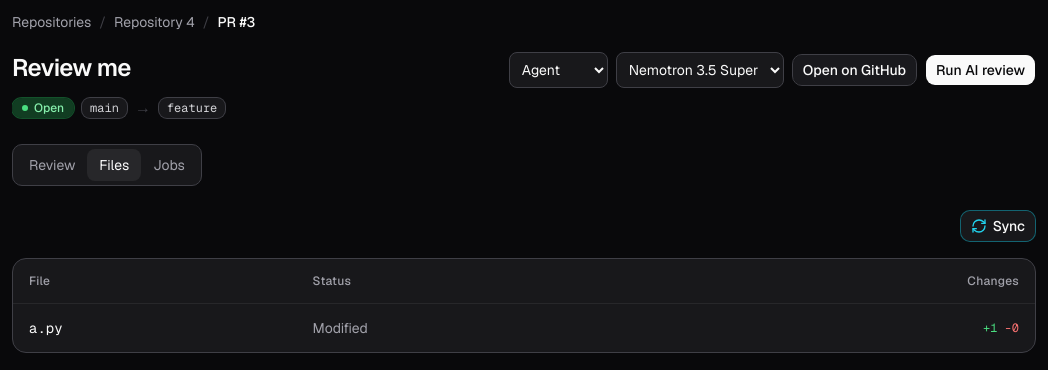
pull request review pin › defaults to agent and limits the model list to agent models
This screenshot has width=1048, height=370.
Expected: the dropdown named "Review model" shows "Nemotron 3.5 Super", [616,52,784,88]
Select "Workflow" in the dropdown named "Review method" at (558, 70), box [509,52,608,88]
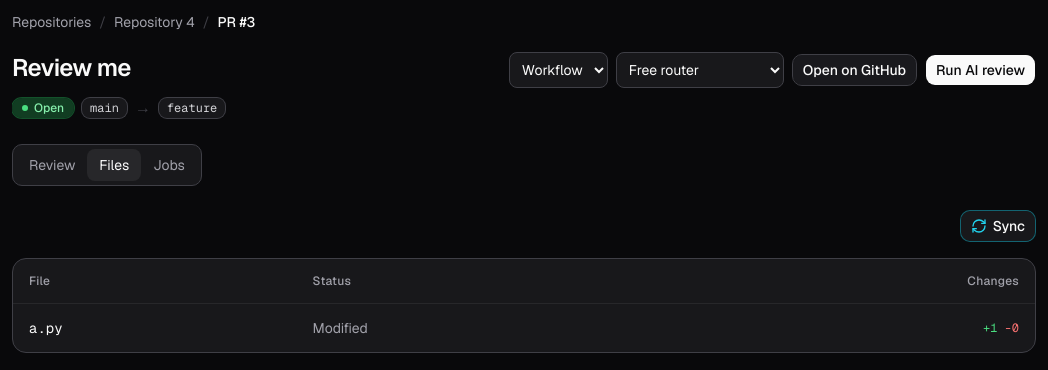
Select "Agent" in the dropdown named "Review method" at (558, 70), box [509,52,608,88]
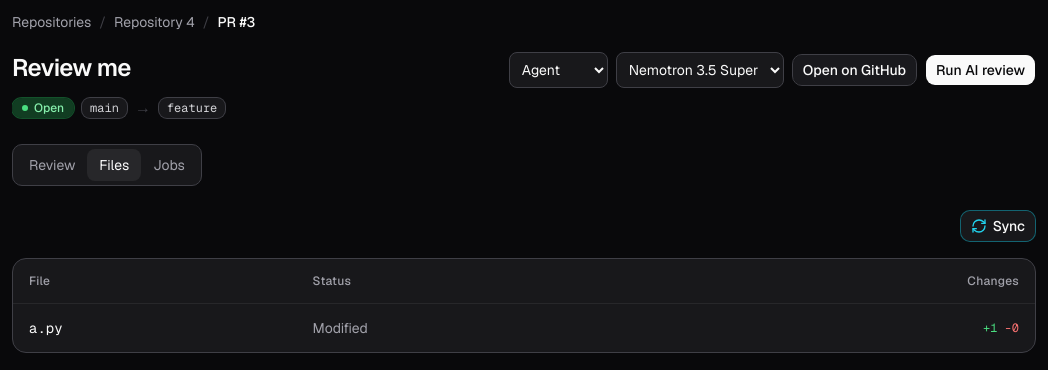
Expected: the dropdown named "Review model" shows "Nemotron 3.5 Super", [616,52,784,88]
